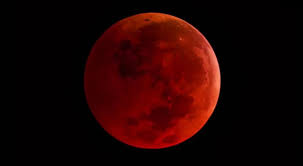moon: (83, 12, 222, 149)
